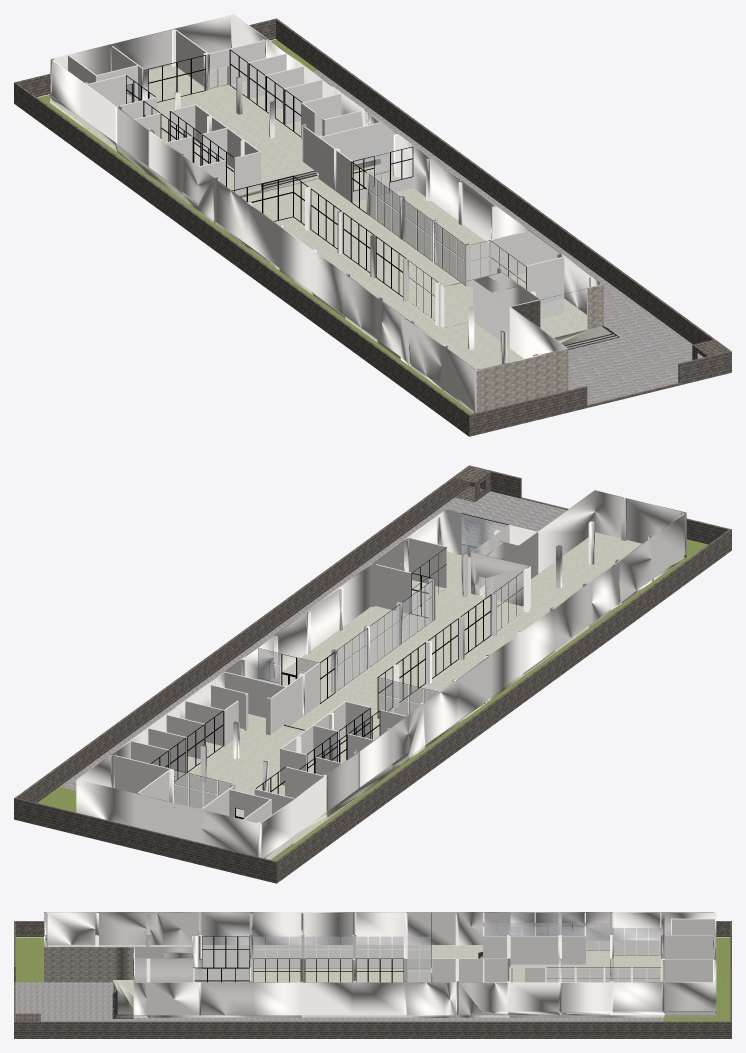
Rendered from Without Furniture.glb.
The picture shows the model from 3 angles, top to bottom: view 1: azimuth 30°, elevation 25°; view 2: azimuth 150°, elevation 25°; view 3: azimuth 270°, elevation 25°; orthographic projection. The views are drawn at different scales.
Visible parts, largest first — view 1: Group6, Group1, Group5, Group51, Group49, Group7, Group50, Group47, Group46, Group45, Group38, Group30 (+4 smaller); view 2: Group6, Group1, Group5, Group49, Group51, Group50, Group7, Group47, Group46, Group45, Group35, Group13 (+6 smaller); view 3: Group6, Group1, Group51, Group5, Group50, Group7, Group49, Group47, Group32, Group27, Group28, Group34 (+17 smaller).
Part boxes in pixels (x1=…): Group6: x1=50, y1=14, x2=603, y2=413; Group1: x1=14, y1=18, x2=731, y2=436; Group5: x1=242, y1=164, x2=586, y2=369; Group51: x1=38, y1=39, x2=703, y2=414; Group49: x1=176, y1=30, x2=380, y2=202; Group7: x1=126, y1=66, x2=322, y2=191; Group50: x1=68, y1=46, x2=260, y2=193; Group47: x1=440, y1=272, x2=539, y2=347; Group46: x1=526, y1=256, x2=564, y2=303; Group45: x1=490, y1=231, x2=525, y2=276; Group38: x1=434, y1=222, x2=464, y2=284; Group30: x1=401, y1=198, x2=431, y2=260; Group6: x1=76, y1=490, x2=686, y2=860; Group1: x1=14, y1=465, x2=731, y2=883; Group5: x1=270, y1=532, x2=641, y2=739; Group49: x1=114, y1=663, x2=319, y2=801; Group51: x1=38, y1=491, x2=708, y2=861; Group50: x1=202, y1=701, x2=406, y2=822; Group7: x1=174, y1=714, x2=346, y2=819; Group47: x1=471, y1=525, x2=538, y2=607; Group46: x1=408, y1=537, x2=446, y2=588; Group45: x1=375, y1=564, x2=411, y2=614; Group35: x1=378, y1=677, x2=438, y2=718; Group13: x1=174, y1=769, x2=230, y2=808; Group6: x1=44, y1=912, x2=716, y2=1017; Group1: x1=14, y1=921, x2=731, y2=1038; Group51: x1=15, y1=937, x2=730, y2=1021; Group5: x1=47, y1=945, x2=482, y2=982; Group50: x1=483, y1=912, x2=715, y2=964; Group7: x1=510, y1=940, x2=661, y2=982; Group49: x1=432, y1=958, x2=712, y2=982; Group47: x1=135, y1=936, x2=198, y2=982; Group32: x1=202, y1=936, x2=249, y2=968; Group27: x1=253, y1=936, x2=300, y2=968; Group28: x1=305, y1=936, x2=352, y2=968; Group34: x1=356, y1=936, x2=403, y2=968.
Size of the model in its own units: 100 by 16.5 by 300.
13 materials, 8 textured.
